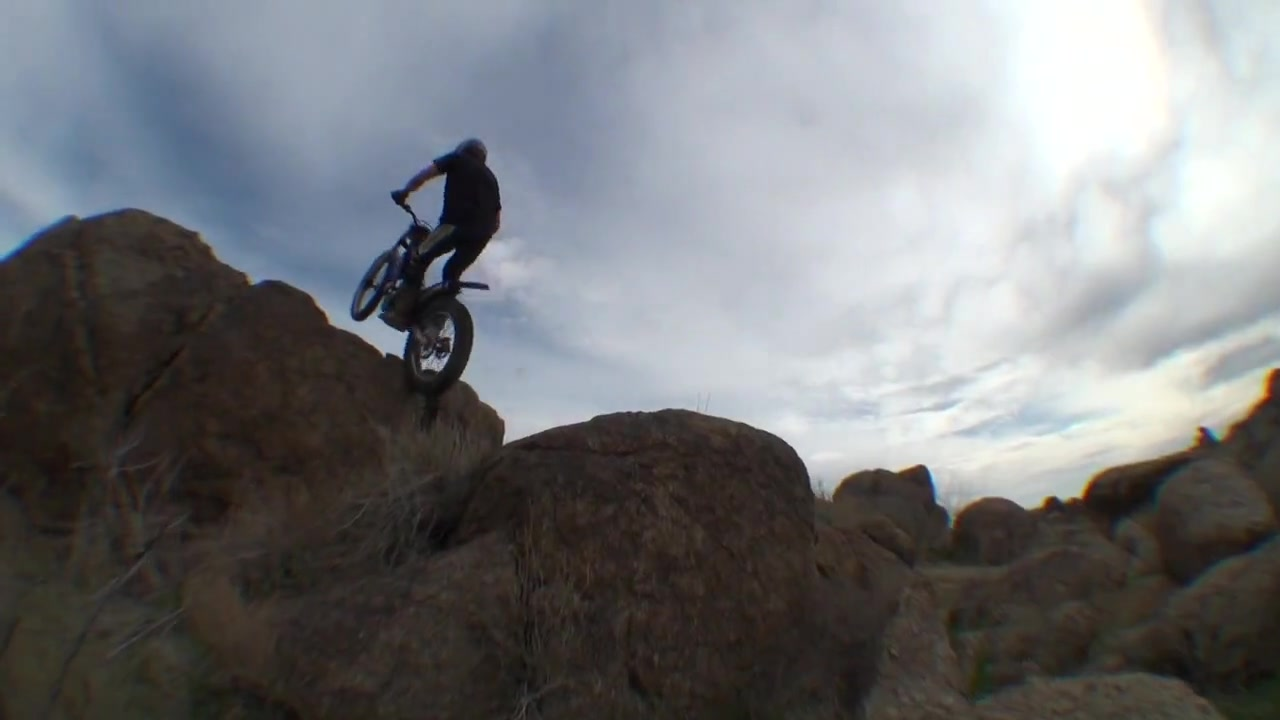motorbike: (350, 186, 492, 394)
